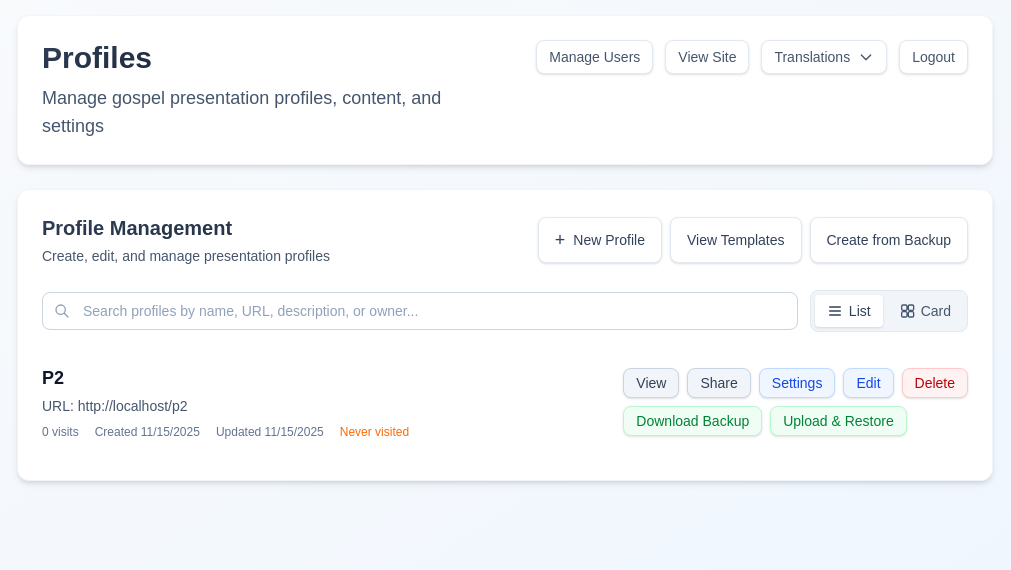
Scenario: AdminPageContent internals › deletes profile when confirmed
This screenshot has width=1011, height=570.
Expected: the heading "P2" is shown, [42,364,64,392]
Click the button "Delete": (935, 383) [902,368,968,398]
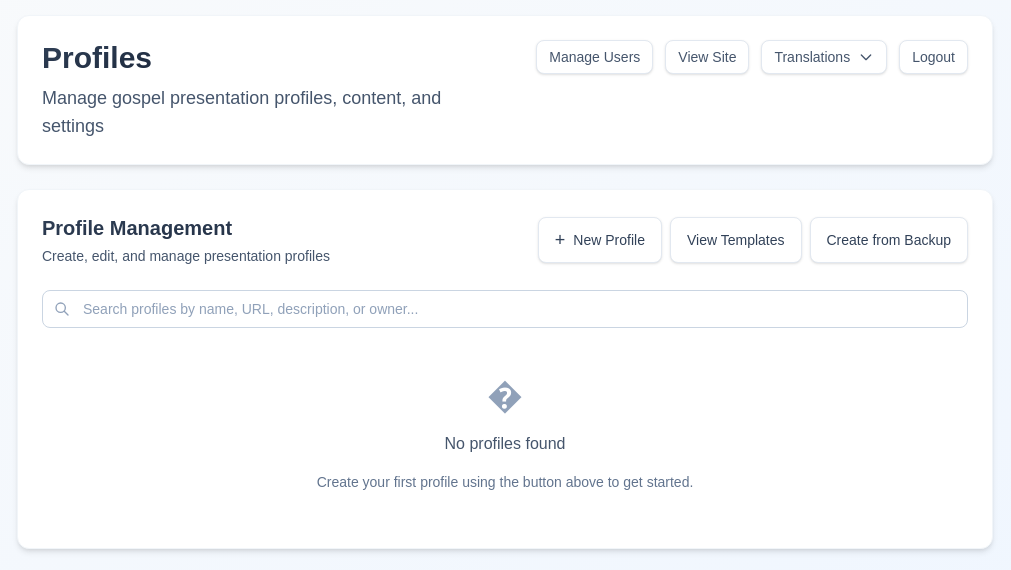
Expected: the heading "P2" is gone
